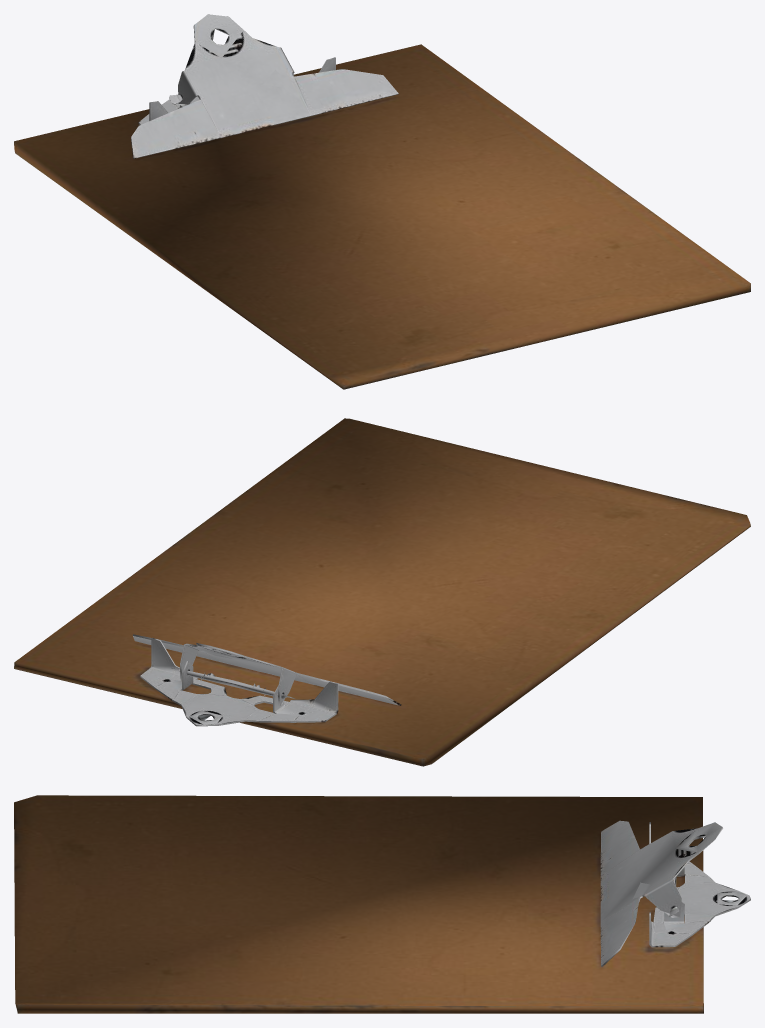
The picture shows the model from 3 angles, top to bottom: view 1: azimuth 30°, elevation 25°; view 2: azimuth 150°, elevation 25°; view 3: azimuth 270°, elevation 25°; orthographic projection. The views are drawn at different scales.
Visible parts, largest first — view 1: clipboard; view 2: clipboard; view 3: clipboard.
Boxes of the visible parts, box(x1,y1,x2,y2) form: clipboard: box(14, 14, 750, 389); clipboard: box(14, 418, 750, 766); clipboard: box(14, 795, 750, 1013).
Size of the model in its own units: 0.2258 by 0.0417 by 0.3359.
Materials: 1 (1 with a texture image).
